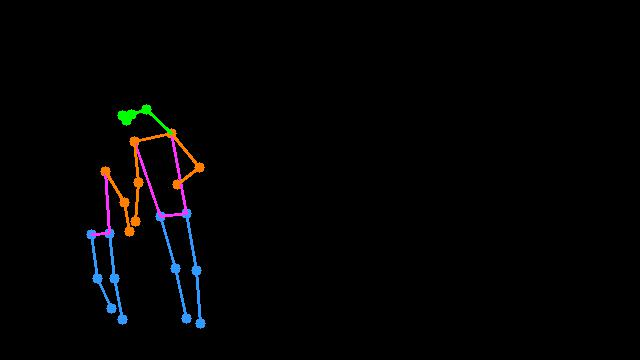normal: (65, 93, 214, 336)
